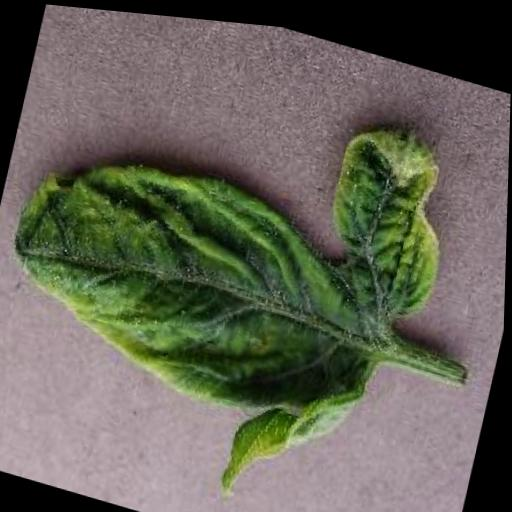Yellow Leaf Curl Virus: (0, 23, 472, 512)
